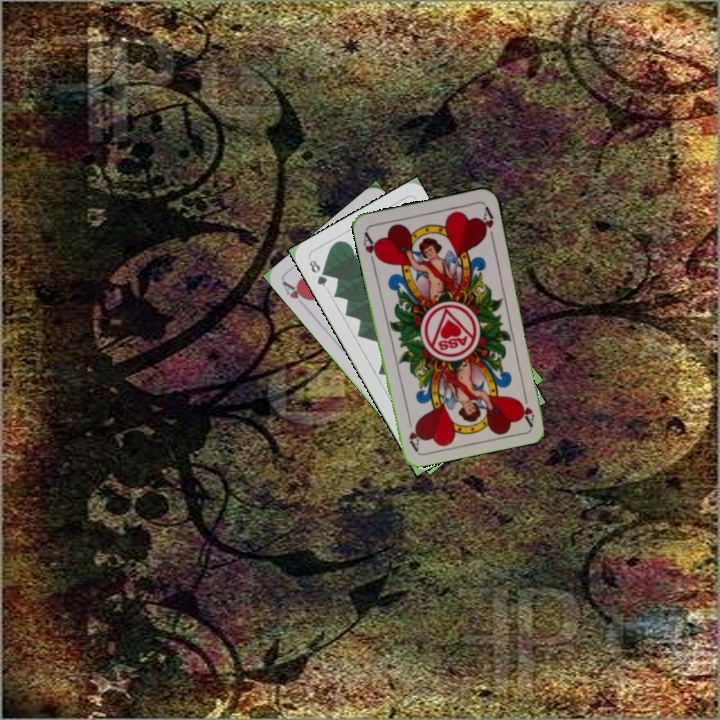G8: (305, 256, 330, 289)
HA: (278, 277, 312, 311), (359, 228, 383, 268), (515, 387, 537, 427)
